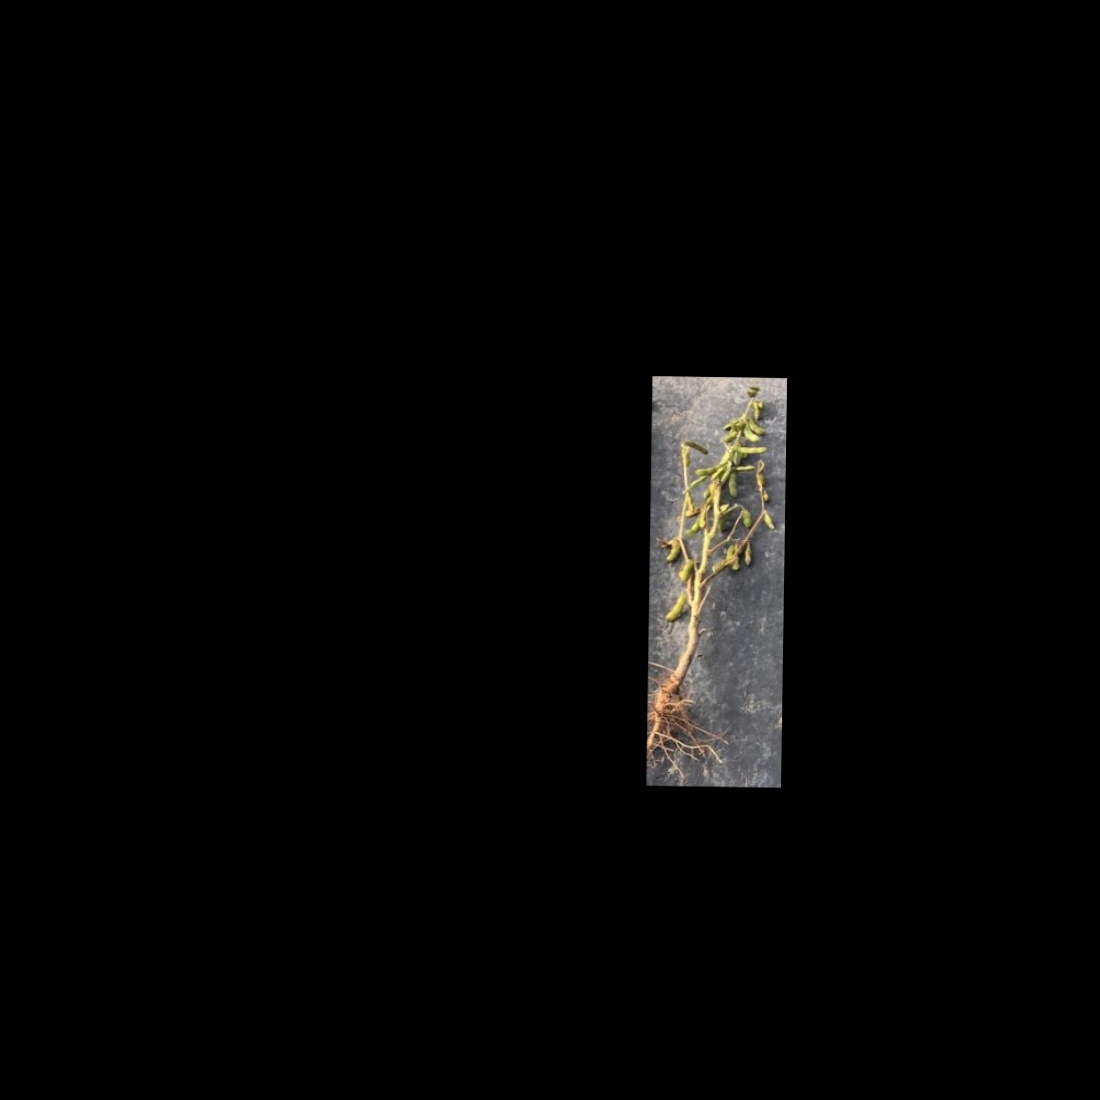pod: (662, 590, 687, 624), (664, 538, 682, 565), (684, 437, 710, 455), (731, 443, 770, 455), (726, 471, 741, 498), (690, 464, 720, 477), (742, 543, 757, 570), (762, 510, 778, 533), (741, 507, 755, 528), (751, 398, 761, 422)
soy: (655, 378, 782, 746)
